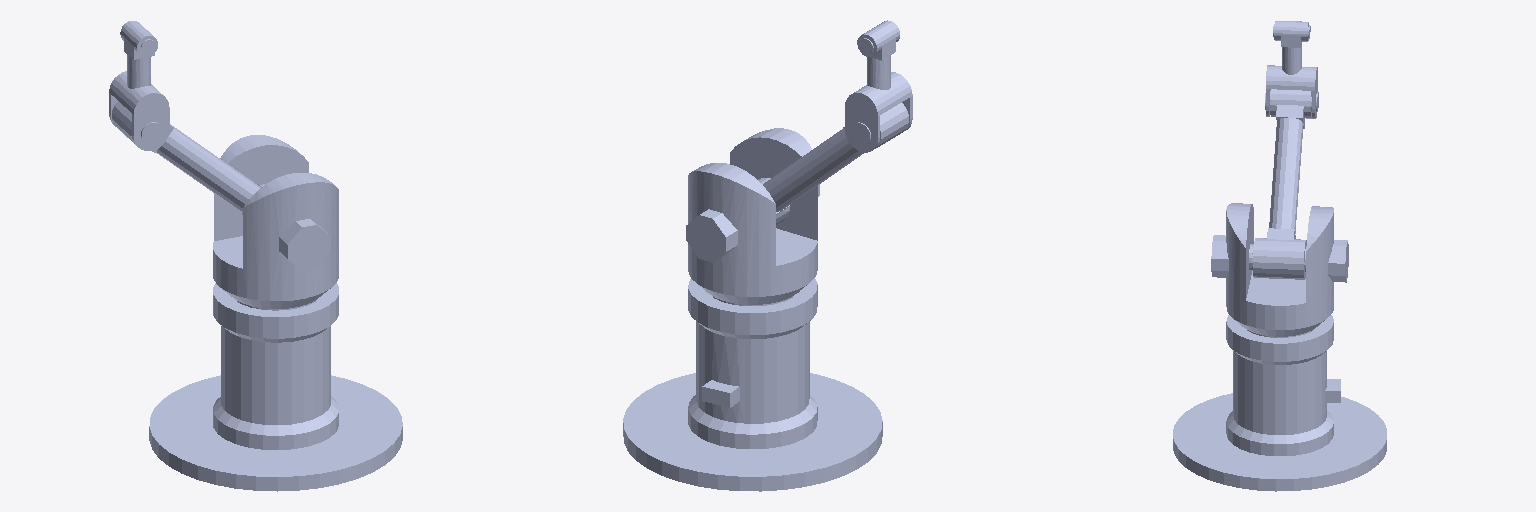
URDF robot description (arm_robot):
<?xml version="1.0"?>
<robot name="arm_robot">
	<link name="world">
	</link>
	<link name="Base_Link">
		<inertial>
			<origin xyz="4.9361E-21 -0.18689 -0.0014716" rpy="0 0 0" />
			<mass value="566.27" />
			<inertia ixx="121.33" ixy="0" ixz="0" iyy="89.866" iyz="0.083333" izz="121" />
		</inertial>
		<visual>
			<origin xyz="0 0 0" rpy="0 0 0" />
			<geometry>
				<mesh filename="package://robot_description/meshes/Base_Link.STL" />
			</geometry>
			<material name="">
				<color rgba="0.79216 0.81961 0.93333 1" />
			</material>
		</visual>
		<collision>
			<origin xyz="0 0 0" rpy="0 0 0" />
			<geometry>
				<mesh filename="package://robot_description/meshes/Base_Link.STL" />
			</geometry>
		</collision>
	</link>
	<joint name="world_joint" type="fixed">
		<origin xyz="0.0 0.0 0.0" rpy="0.0 0.0 0.0"/>
		<parent link="world"/>
		<child link="Base_Link"/>
	</joint>
	<link name="Link_01">
		<inertial>
			<origin xyz="6.3251E-08 0.40154 -9.1156E-08" rpy="0 0 0" />
			<mass value="264.92" />
			<inertia ixx="203.49" ixy="-2.9E-05" ixz="-0.85143" iyy="24.578" iyz="-3.2E-05" izz="194.3" />
		</inertial>
		<visual>
			<origin xyz="0 0 0" rpy="0 0 0" />
			<geometry>
				<mesh filename="package://robot_description/meshes/Link_01.STL" />
			</geometry>
			<material name="">
				<color rgba="0.79216 0.81961 0.93333 1" />
			</material>
		</visual>
		<collision>
			<origin xyz="0 0 0" rpy="0 0 0" />
			<geometry>
				<mesh filename="package://robot_description/meshes/Link_01.STL" />
			</geometry>
		</collision>
	</link>
	<joint name="Base_Link_to_Link_01" type="continuous">
		<origin xyz="0 0 0.4" rpy="1.5708 6.0973E-17 1.4792" />
		<parent link="Base_Link" />
		<child link="Link_01" />
		<axis xyz="0 1 0" />
	</joint>
	<link name="Link_02">
		<inertial>
			<origin xyz="-4.1633E-17 0.53964 1.4433E-15" rpy="0 0 0" />
			<mass value="75.925" />
			<inertia ixx="147.12" ixy="-50.573" ixz="2.0856" iyy="23.993" iyz="-4.6477" izz="169.62" />
		</inertial>
		<visual>
			<origin xyz="0 0 0" rpy="0 0 0" />
			<geometry>
				<mesh filename="package://robot_description/meshes/Link_02.STL" />
			</geometry>
			<material name="">
				<color rgba="0.79216 0.81961 0.93333 1" />
			</material>
		</visual>
		<collision>
			<origin xyz="0 0 0" rpy="0 0 0" />
			<geometry>
				<mesh filename="package://robot_description/meshes/Link_02.STL" />
			</geometry>
		</collision>
	</link>
	<joint name="Link_01_to_Link_02" type="continuous">
		<origin xyz="0 0.585 0" rpy="-2.3012 2.4425E-15 3.1416" />
		<parent link="Link_01" />
		<child link="Link_02" />
		<axis xyz="1 0 0" />
	</joint>
	<link name="Link_03">
		<inertial>
			<origin xyz="1.5032E-08 0.29365 -5.7063E-08" rpy="0 0 0" />
			<mass value="21.675" />
			<inertia ixx="99.474" ixy="-43.65" ixz="1.7658" iyy="19.859" iyz="-4.0115" izz="118.52" />
		</inertial>
		<visual>
			<origin xyz="0 0 0" rpy="0 0 0" />
			<geometry>
				<mesh filename="package://robot_description/meshes/Link_03.STL" />
			</geometry>
			<material name="">
				<color rgba="0.79216 0.81961 0.93333 1" />
			</material>
		</visual>
		<collision>
			<origin xyz="0 0 0" rpy="0 0 0" />
			<geometry>
				<mesh filename="package://robot_description/meshes/Link_03.STL" />
			</geometry>
		</collision>
	</link>
	<joint name="Link_02_to_Link_03" type="continuous">
		<origin xyz="0 1.275 0" rpy="-0.84042 9.09E-16 -1.0131E-15" />
		<parent link="Link_02" />
		<child link="Link_03" />
		<axis xyz="1 0 0" />
	</joint>
</robot>

--- Facts derived from the render (not from the file) ---
3 views of the same robot in one strip: view 1: azimuth 30°, elevation 25°; view 2: azimuth 150°, elevation 25°; view 3: azimuth 270°, elevation 25° (orthographic).
Model arm_robot with 5 links and 4 joints (3 continuous, 1 fixed), rooted at world, posed all joints at 0.
Visible links, largest first — view 1: Base_Link, Link_01, Link_03, Link_02; view 2: Base_Link, Link_01, Link_03, Link_02; view 3: Base_Link, Link_01, Link_02, Link_03.
Link boxes in pixels (bbox=[...]): Base_Link: bbox=[149, 283, 402, 491]; Link_01: bbox=[213, 135, 338, 310]; Link_03: bbox=[109, 21, 169, 150]; Link_02: bbox=[112, 101, 264, 214]; Base_Link: bbox=[623, 278, 882, 491]; Link_01: bbox=[686, 128, 819, 305]; Link_03: bbox=[845, 20, 912, 152]; Link_02: bbox=[758, 103, 908, 224]; Base_Link: bbox=[1173, 315, 1386, 491]; Link_01: bbox=[1211, 203, 1348, 337]; Link_02: bbox=[1252, 89, 1311, 279]; Link_03: bbox=[1265, 21, 1318, 118].
Bounding box of the posed robot: 1.89 × 1.6 × 3.04 m (x, y, z).
Meshes: 4 distinct files referenced, 4 mesh visuals loaded (4 binary STL).